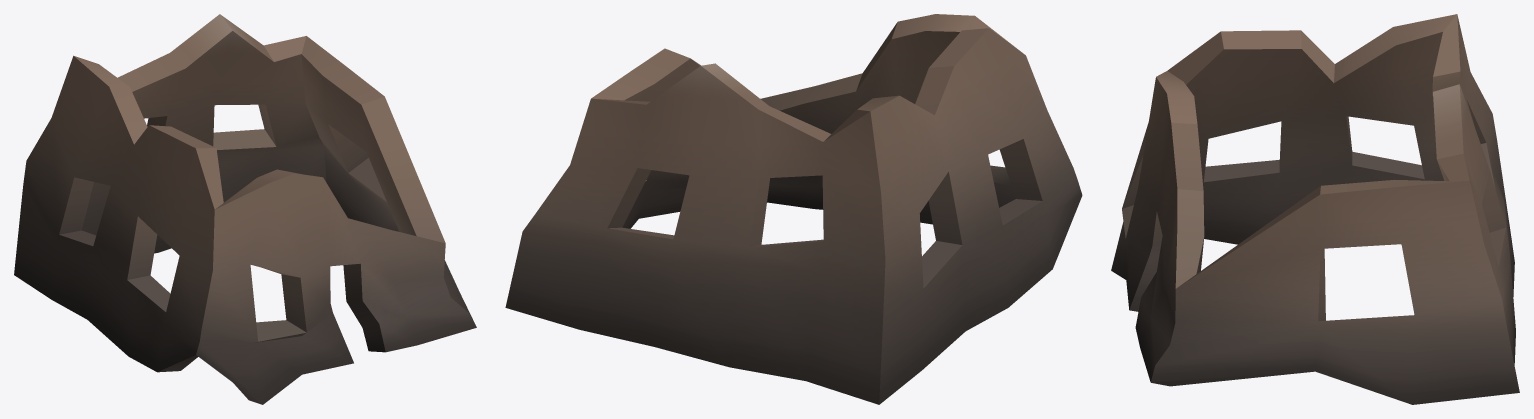
Rendered from Building_T013.fbx.
3 views of the same model, side by side, from view 1: azimuth 30°, elevation 25°; view 2: azimuth 150°, elevation 25°; view 3: azimuth 270°, elevation 25° (orthographic). The views are drawn at different scales.
Parts seen in each view (by area): view 1: Building_T013; view 2: Building_T013; view 3: Building_T013.
Boxes of the visible parts, x1,y1,x2,y2 form: Building_T013: (14,14,476,404); Building_T013: (505,14,1082,404); Building_T013: (1111,14,1519,404).
Bounding box in the file's own units: 19.91 × 13.9 × 20.24.
